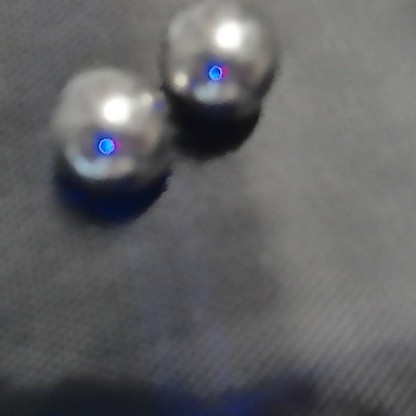ironball: (52, 65, 170, 180), (168, 4, 276, 108)
